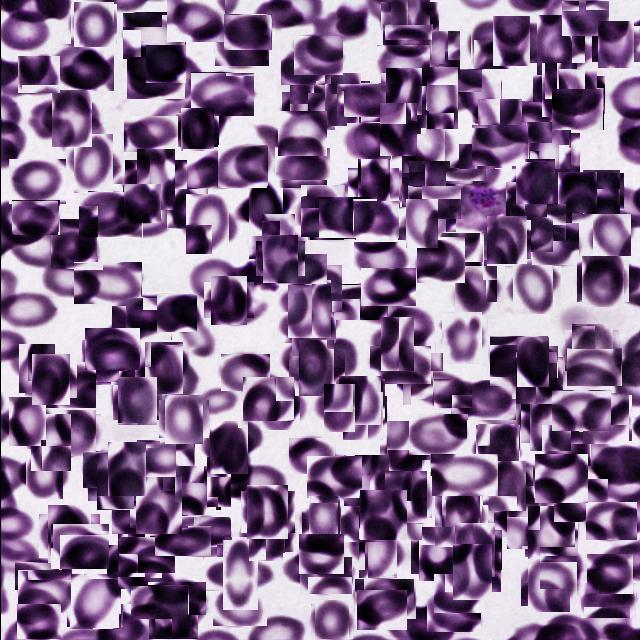red blood cell: (48, 44, 113, 91), (338, 460, 394, 514), (122, 12, 185, 59), (78, 191, 142, 237), (212, 546, 266, 600), (67, 574, 121, 628), (489, 336, 547, 386), (73, 262, 141, 304), (190, 72, 254, 116), (430, 454, 497, 496), (50, 523, 109, 569), (42, 510, 94, 562), (181, 198, 233, 250), (132, 479, 184, 531), (382, 424, 433, 476), (499, 492, 551, 543), (532, 454, 586, 503), (448, 380, 514, 420), (38, 256, 100, 298), (111, 297, 171, 340), (8, 159, 65, 204), (397, 120, 448, 170), (283, 284, 334, 334), (354, 578, 416, 619), (524, 129, 574, 179), (523, 560, 573, 610), (526, 508, 576, 558), (524, 398, 574, 448), (130, 154, 180, 204), (455, 69, 501, 123), (230, 466, 286, 510), (551, 390, 611, 431), (68, 139, 117, 189), (580, 393, 630, 442), (358, 490, 407, 540), (166, 0, 224, 42), (126, 57, 184, 99), (318, 198, 376, 240), (214, 23, 268, 68), (26, 417, 74, 467), (471, 124, 528, 166), (408, 414, 466, 455), (120, 560, 174, 604), (17, 570, 71, 614), (410, 370, 472, 408), (174, 515, 230, 557), (404, 165, 453, 213), (44, 362, 95, 408), (553, 479, 607, 522), (369, 346, 430, 384), (306, 456, 361, 498), (84, 328, 139, 370), (508, 262, 556, 310), (47, 94, 95, 142), (567, 326, 615, 374), (530, 21, 578, 69), (294, 264, 342, 312), (450, 526, 498, 574), (512, 354, 560, 402), (243, 488, 291, 536), (448, 548, 496, 596), (418, 74, 466, 122), (244, 374, 292, 422), (50, 219, 96, 269), (498, 102, 552, 144), (437, 234, 484, 282), (381, 473, 428, 521), (91, 458, 138, 506), (298, 187, 346, 234), (527, 172, 574, 220), (274, 147, 329, 188), (217, 144, 268, 188), (578, 258, 626, 304), (416, 237, 464, 283), (385, 0, 434, 45), (277, 111, 326, 156), (353, 242, 409, 281), (551, 88, 603, 130), (242, 183, 288, 230), (414, 532, 461, 578), (104, 446, 150, 493), (476, 100, 522, 147), (426, 594, 480, 634), (136, 440, 194, 477), (376, 45, 429, 85), (467, 20, 513, 66), (452, 267, 498, 313), (354, 528, 400, 574), (254, 220, 300, 266), (205, 424, 251, 470), (554, 72, 600, 118), (292, 345, 338, 391), (374, 106, 420, 152), (243, 511, 290, 556), (386, 305, 435, 348), (360, 268, 415, 306), (511, 203, 566, 241), (566, 348, 621, 386), (118, 536, 174, 573), (256, 383, 302, 428), (438, 315, 483, 361), (284, 89, 330, 134), (438, 491, 483, 537), (85, 336, 130, 382), (140, 345, 185, 391), (399, 357, 445, 402), (190, 259, 239, 301), (212, 588, 266, 626), (494, 217, 552, 252), (337, 378, 382, 423), (320, 76, 364, 122), (172, 468, 218, 512), (536, 68, 582, 112), (580, 582, 636, 618), (299, 556, 352, 594), (356, 590, 406, 630), (21, 452, 66, 496), (203, 460, 248, 504), (28, 357, 72, 402), (111, 540, 156, 584), (483, 218, 528, 262), (531, 223, 578, 265), (130, 585, 188, 619), (433, 574, 483, 613), (333, 284, 387, 320), (123, 116, 177, 152), (111, 496, 162, 534), (585, 502, 636, 540), (485, 464, 529, 508), (114, 378, 158, 422), (284, 306, 328, 350), (161, 397, 205, 441), (340, 394, 384, 438), (375, 322, 419, 366), (488, 19, 532, 63), (512, 161, 556, 205), (147, 582, 205, 615), (293, 36, 342, 75), (282, 343, 335, 379), (72, 2, 115, 46), (417, 30, 460, 74), (4, 400, 48, 443), (207, 279, 250, 322), (15, 347, 58, 390), (151, 598, 195, 640), (586, 554, 632, 594), (296, 534, 342, 574), (282, 553, 336, 587), (407, 186, 461, 220), (307, 202, 355, 240), (220, 354, 269, 391), (476, 424, 518, 467), (539, 548, 582, 590), (382, 24, 432, 60), (352, 200, 399, 238), (336, 83, 388, 117), (280, 49, 329, 85), (56, 412, 98, 454), (456, 146, 498, 188), (352, 163, 394, 205), (594, 23, 636, 65), (382, 70, 424, 112), (258, 238, 300, 280), (540, 431, 590, 466), (223, 14, 271, 50), (561, 0, 609, 36), (590, 214, 631, 256), (511, 341, 552, 383), (346, 122, 391, 160), (153, 526, 210, 556), (82, 451, 128, 488), (580, 171, 621, 212), (401, 203, 442, 244), (288, 438, 334, 474), (11, 200, 58, 235), (166, 188, 206, 229), (388, 90, 429, 130), (14, 562, 62, 596), (319, 388, 359, 428), (18, 54, 58, 94), (556, 172, 596, 212), (304, 500, 344, 539), (340, 506, 383, 542), (16, 604, 60, 639), (122, 184, 161, 223), (156, 294, 196, 332), (145, 45, 185, 83), (177, 111, 216, 149), (312, 602, 351, 640), (277, 254, 326, 284), (384, 500, 422, 538)
trophozoite: (444, 168, 522, 232)
